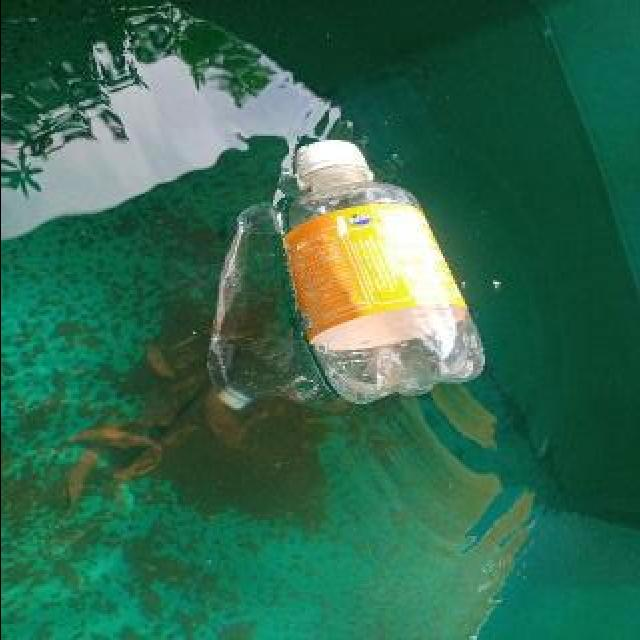Bottle: (269, 128, 491, 410)
